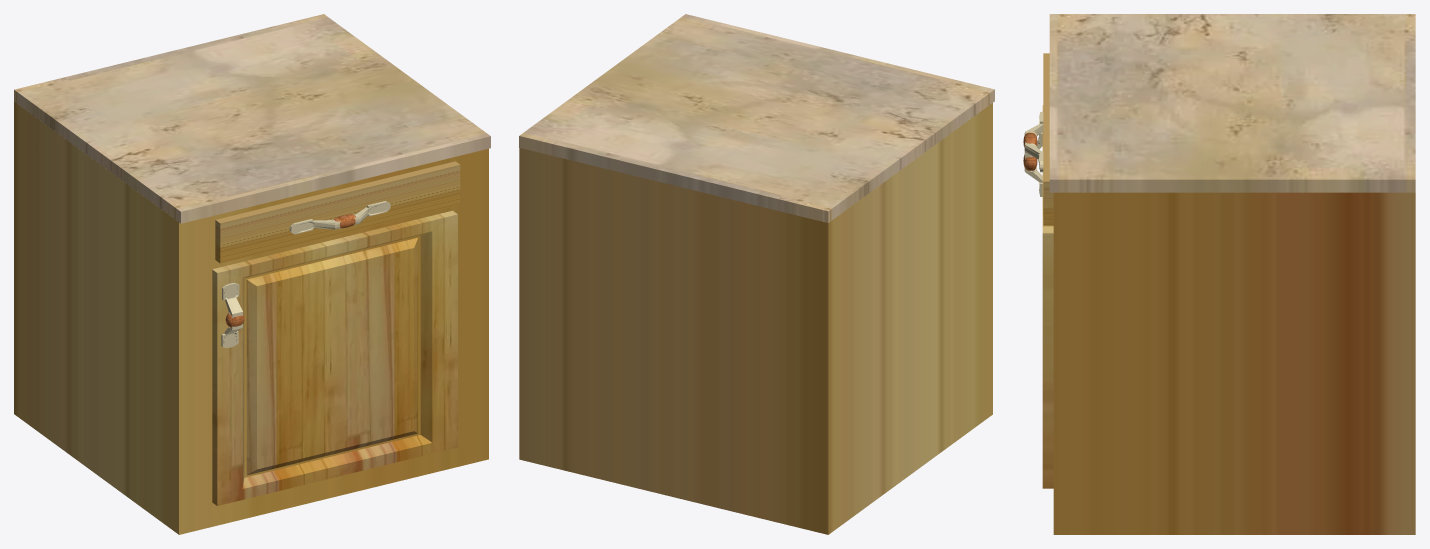
Rendered from sh-contrib-1-door-lower-cabinet.glb.
3 renders of one model, left to right at view 1: azimuth 30°, elevation 25°; view 2: azimuth 150°, elevation 25°; view 3: azimuth 270°, elevation 25°, orthographic. The views are drawn at different scales.
Visible parts, largest first — view 1: PolyMesh_4, PolyMesh_6, Tube_1_6; view 2: PolyMesh_4, PolyMesh_6; view 3: PolyMesh_4, PolyMesh_6, Tube_1_6.
Boxes of the visible parts, x1,y1,x2,y2 form: PolyMesh_4: (14,101,488,534); PolyMesh_6: (14,14,490,223); Tube_1_6: (221,201,390,347); PolyMesh_4: (519,103,992,534); PolyMesh_6: (519,14,994,222); PolyMesh_4: (1042,53,1415,534); PolyMesh_6: (1049,14,1415,192); Tube_1_6: (1024,112,1043,196).
Bounding box in the file's own units: 1 × 1 × 1.
Materials: 4 (3 with a texture image).
